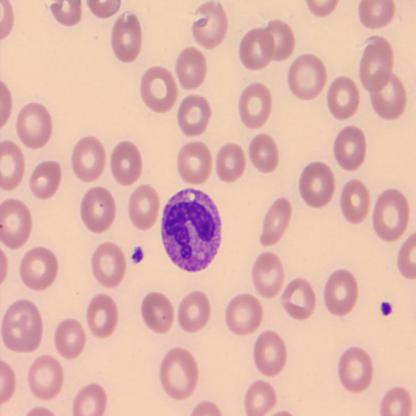Segmented neutrophil: (160, 185, 224, 273)
